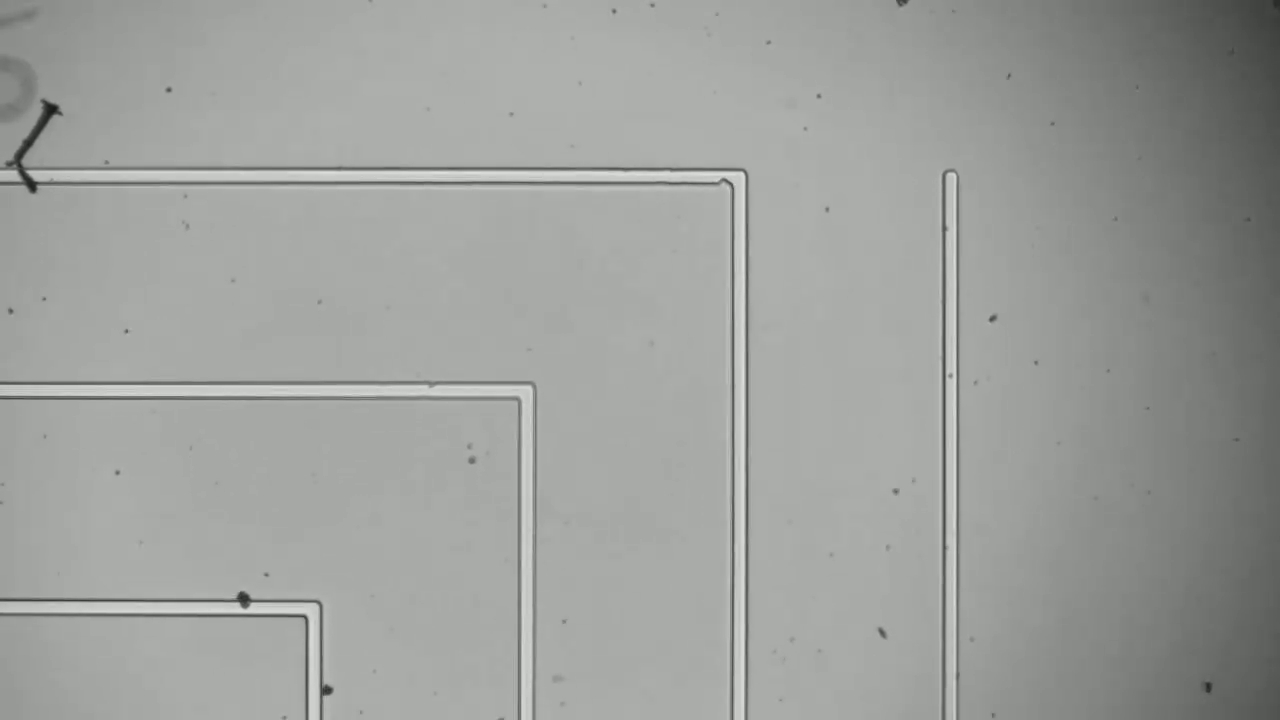edge_bite: (706, 163, 739, 191)
stains_enbedded: (227, 581, 269, 629)
